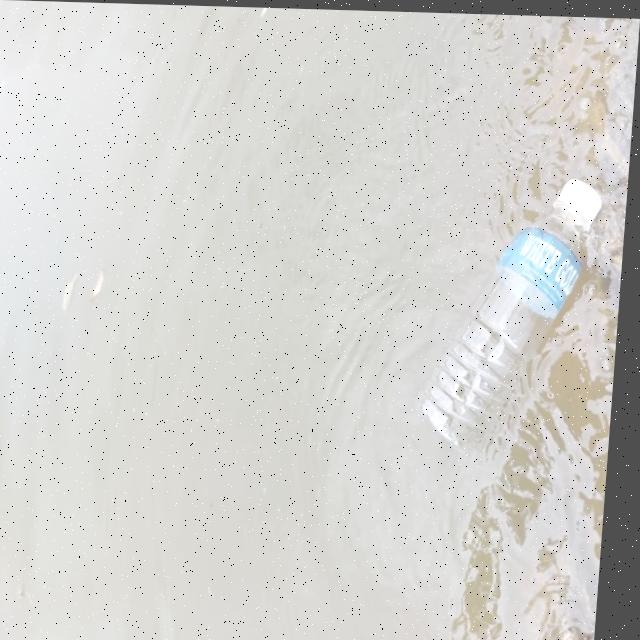waterbottle: (429, 159, 617, 469)
